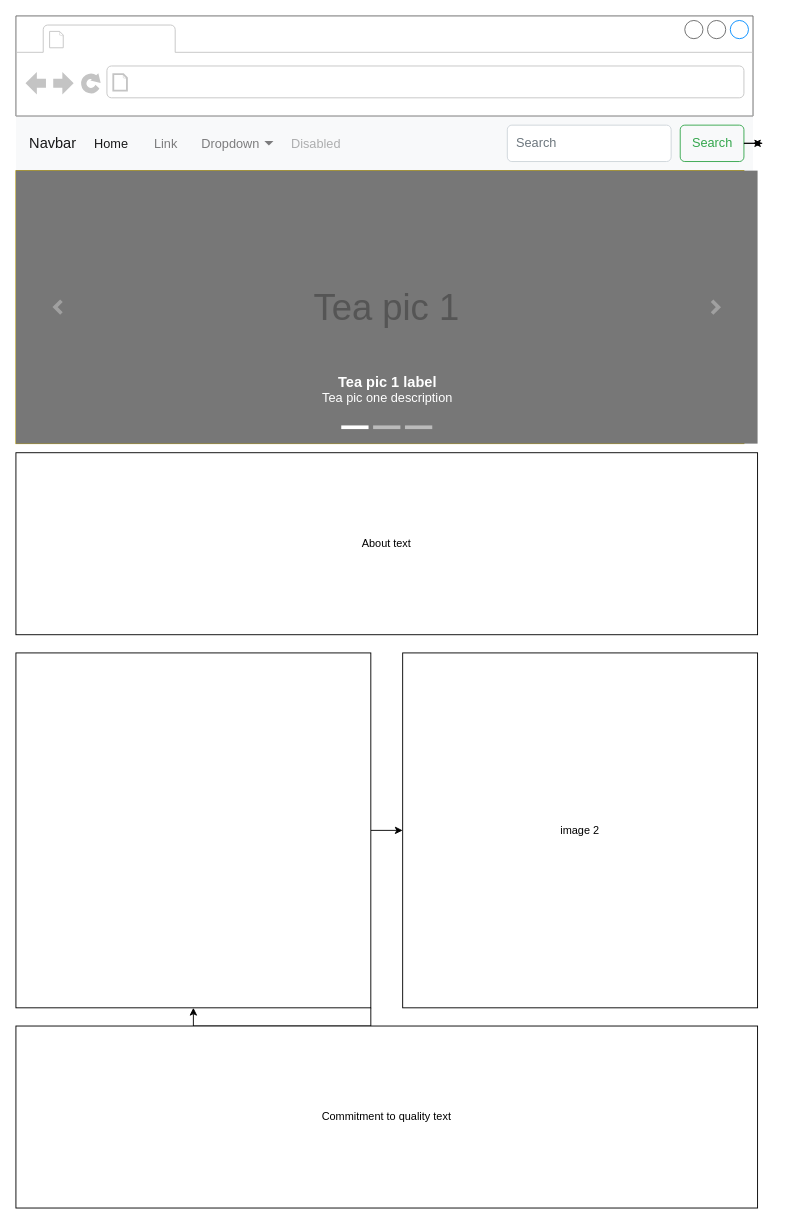
Some shapes in this 785 by 1224 pixel diagram are drawn without their labels. Here are the shapes that lost their labels. From the top down, the centre of each, then its label:
At (120,38): "Page 1".
At (247,82): "https://www.draw.io".
At (193,830): "image 1".
